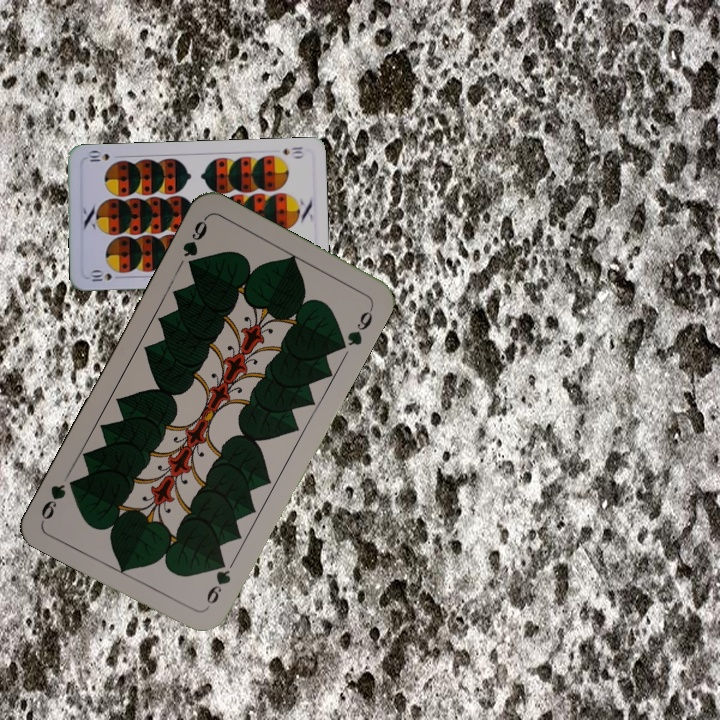G9: (178, 213, 210, 273), (202, 555, 234, 607)
S10: (84, 268, 125, 284), (279, 142, 306, 157)
